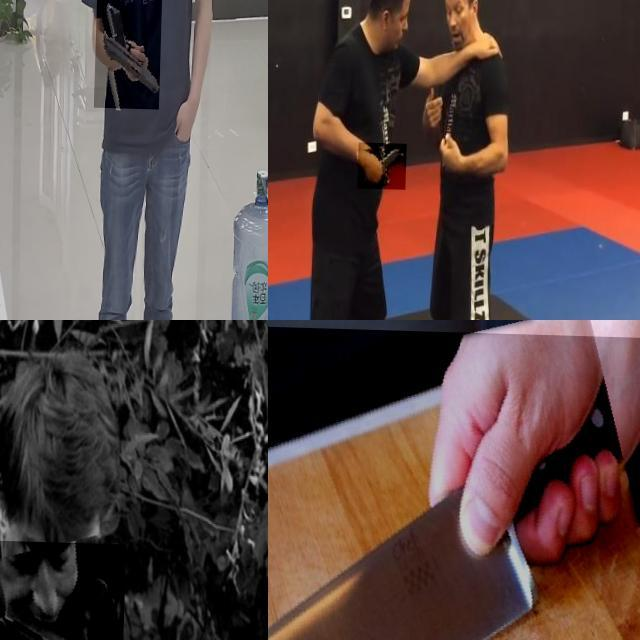-: (268, 321, 640, 640), (360, 140, 409, 188)
gun-knife-thesis - v11 Yolov5 augmented: (0, 538, 128, 640), (95, 0, 163, 107)
